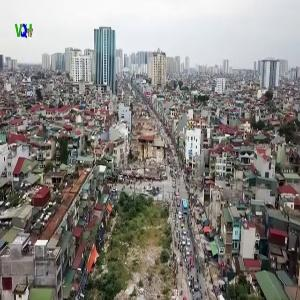drone: (11, 65, 70, 124)
